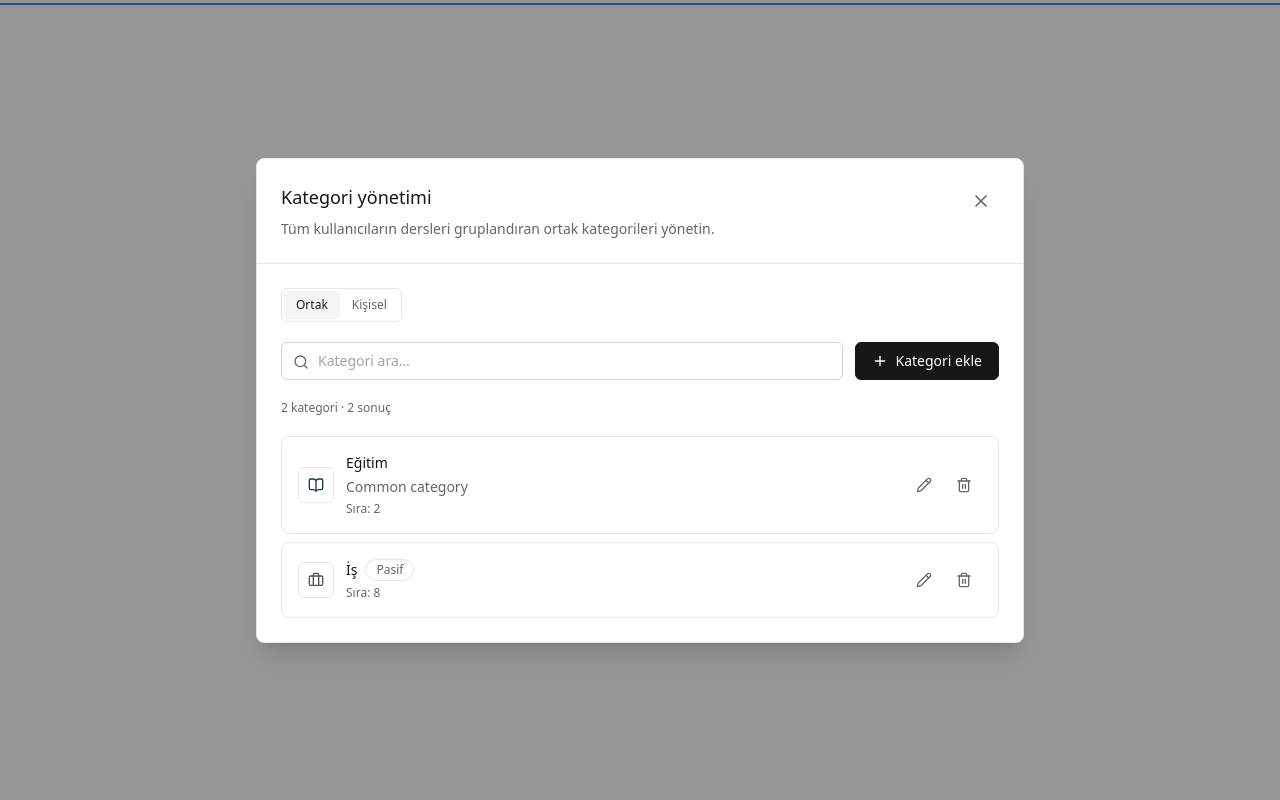
Test: requires an explicit migration choice, preserves it on failure, and waits for a successful deletion
Click the button named "Eğitim kategorisini sil" at (964, 484), box [946,466,982,502]
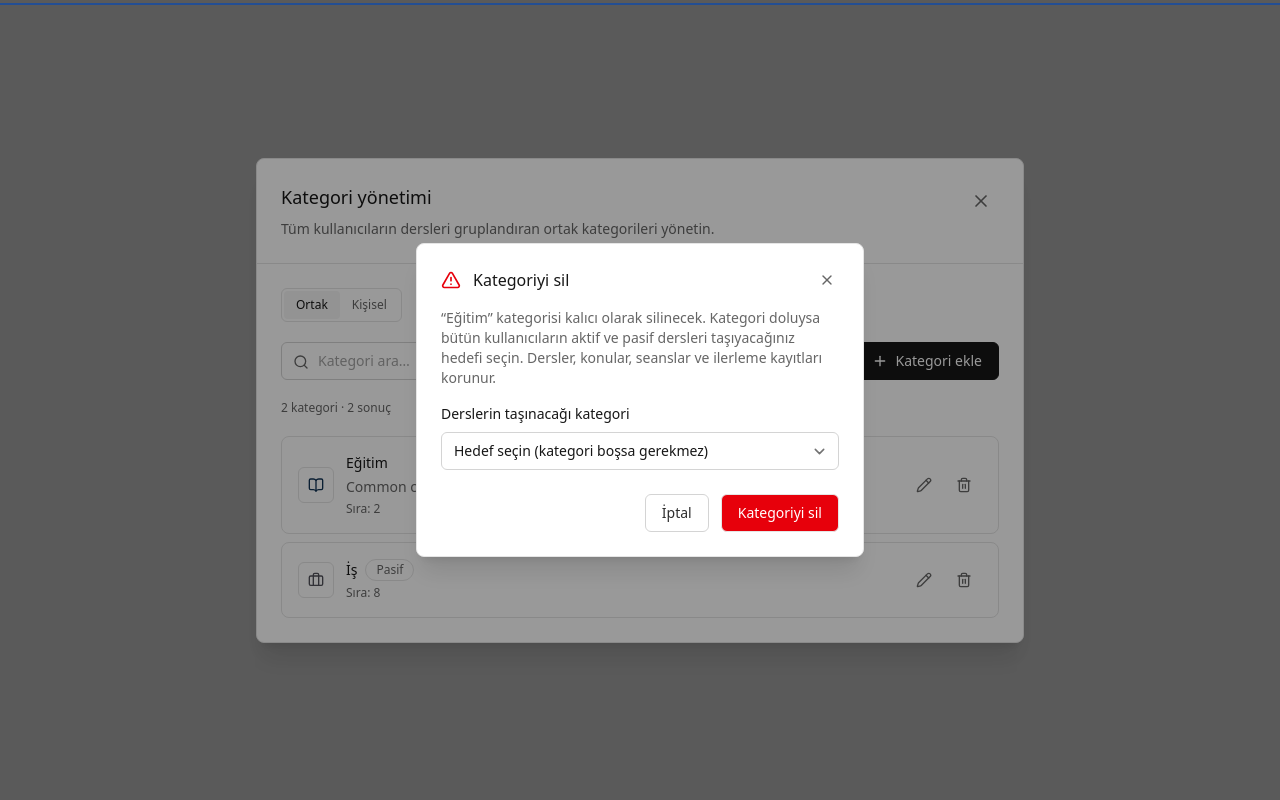
Expected: the text "bütün kullanıcıların aktif ve pasif dersleri" is shown, [441,308,822,387]
Expected: the dropdown labelled "Derslerin taşınacağı kategori" shows "Hedef seçin (kategori boşsa gerekmez)", [441,432,839,470]
Click the button "Kategoriyi sil" at (780, 513), box [721,494,839,532]
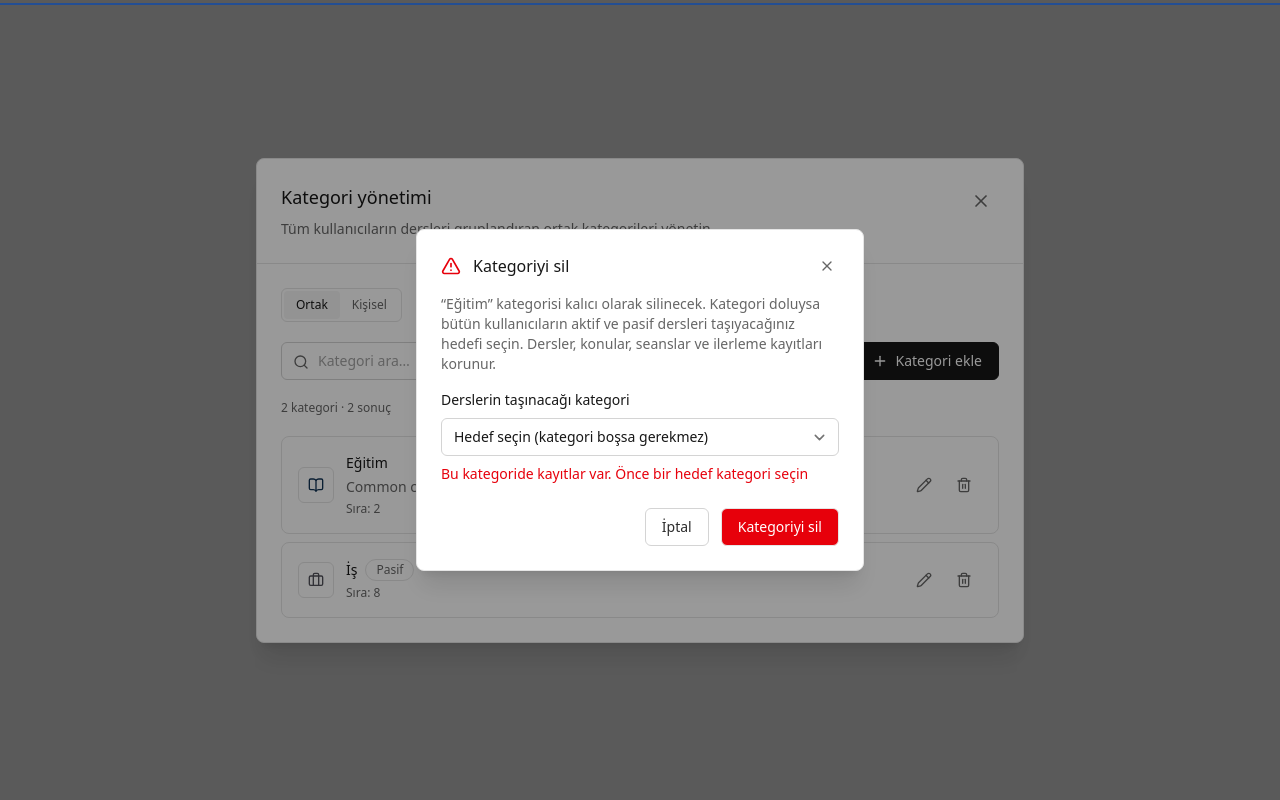
Expected: the text "Bu kategoride kayıtlar var. Önce bir hedef kategori seçin" is shown, [441,464,839,484]
Select "İş · Pasif" in the dropdown labelled "Derslerin taşınacağı kategori" at (640, 437), box [441,418,839,456]
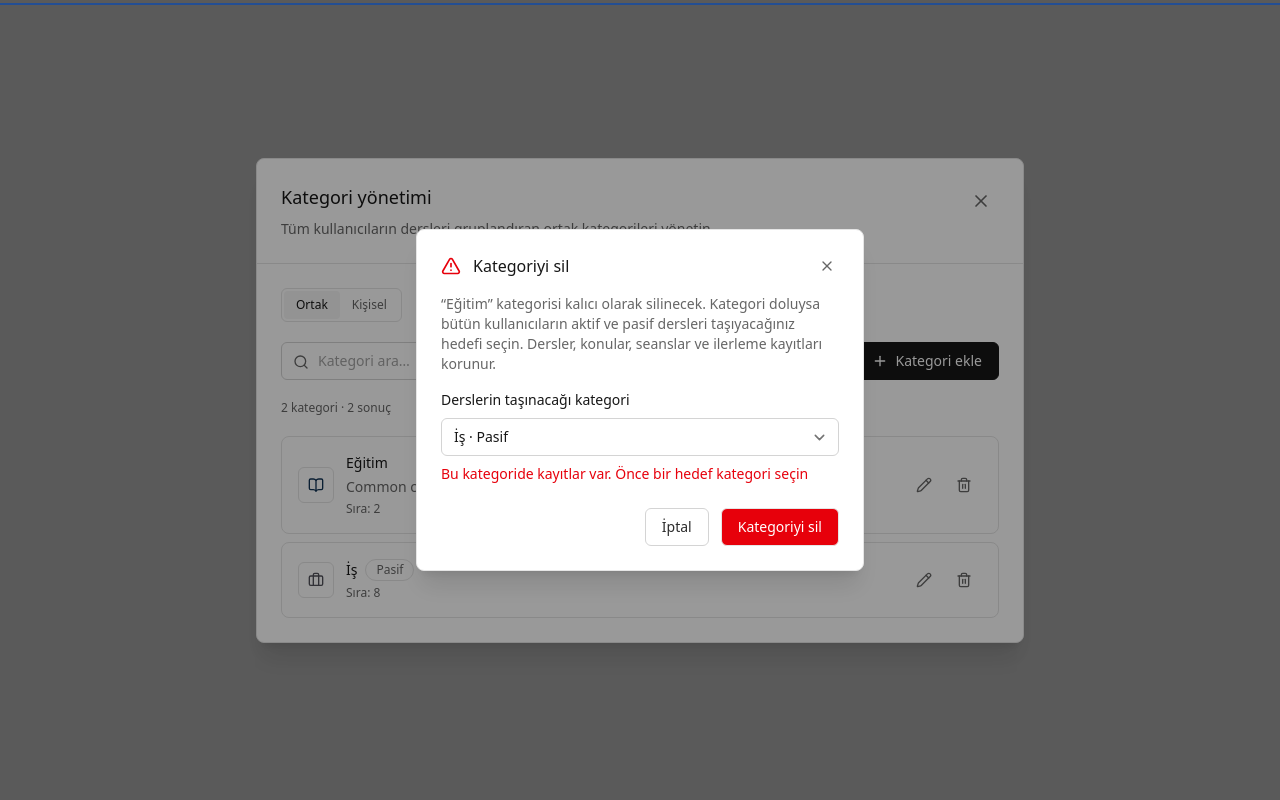
Click the button "Kategoriyi sil" at (780, 527), box [721,508,839,546]
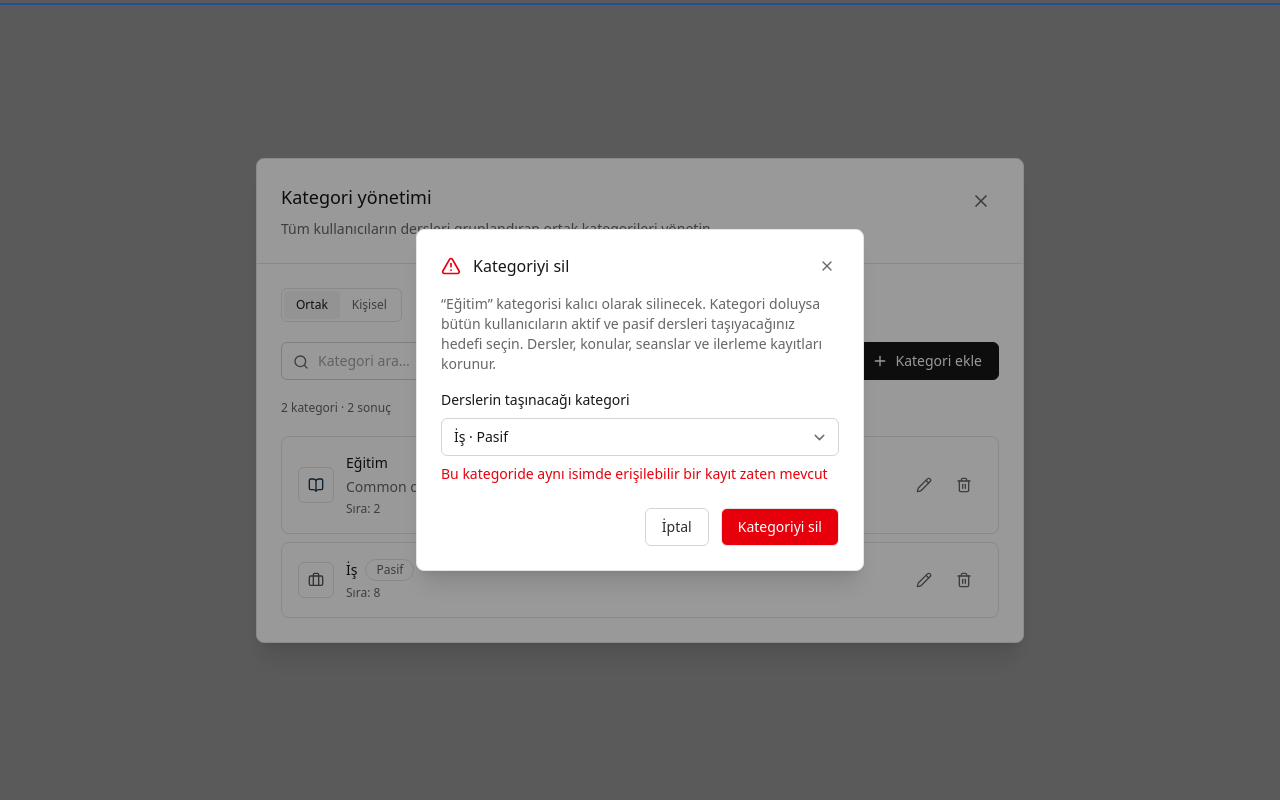
Expected: the text "Bu kategoride aynı isimde erişilebilir bir kayıt zaten mevcut" is shown, [441,464,839,484]
Click the button "Kategoriyi sil" at (780, 527), box [721,508,839,546]
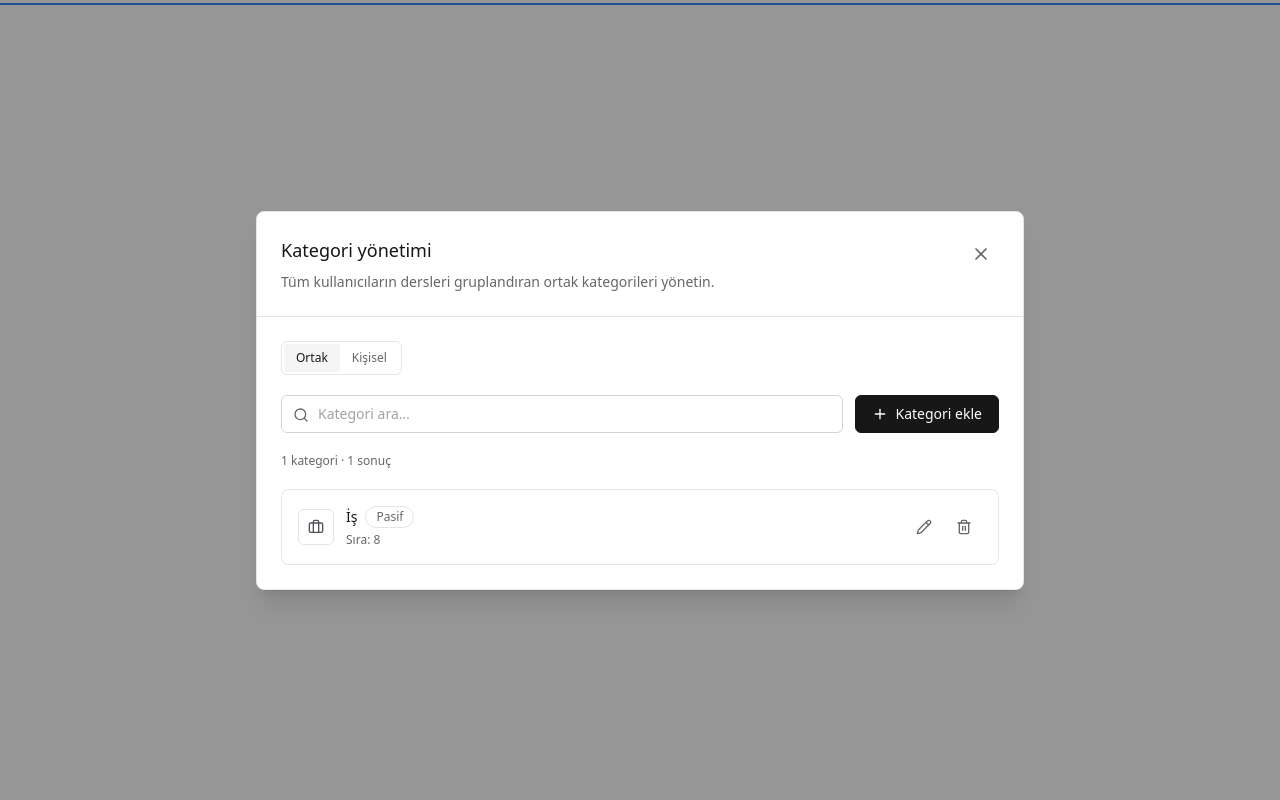
Expected: the heading "Kategoriyi sil" is gone
